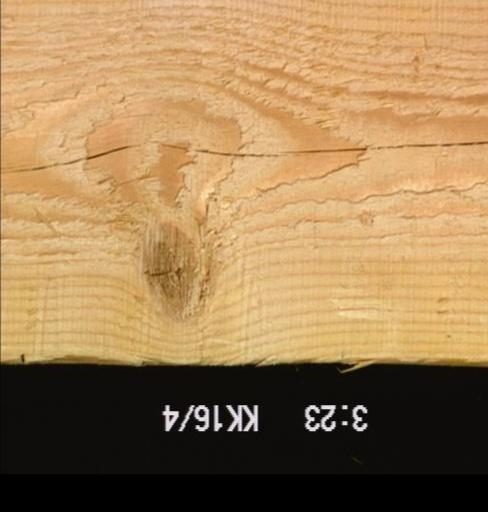sound_knot: (138, 218, 213, 323)
split: (0, 134, 486, 175), (92, 172, 162, 193)
wave: (223, 333, 486, 366), (0, 341, 143, 363)
